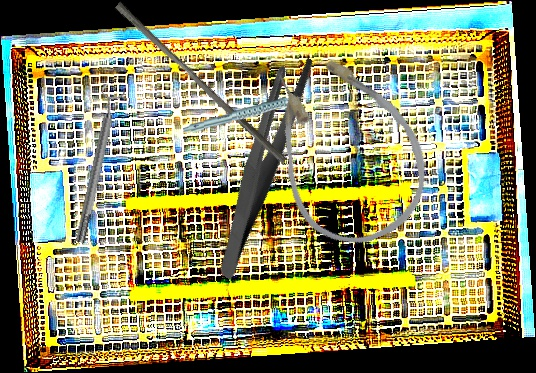Cannula: (242, 30, 449, 263)
Dressing Forceps: (165, 47, 359, 281)
Fixation Ring: (66, 83, 128, 245)
Handpiece: (182, 95, 311, 135)
Pusher: (109, 0, 294, 165)
